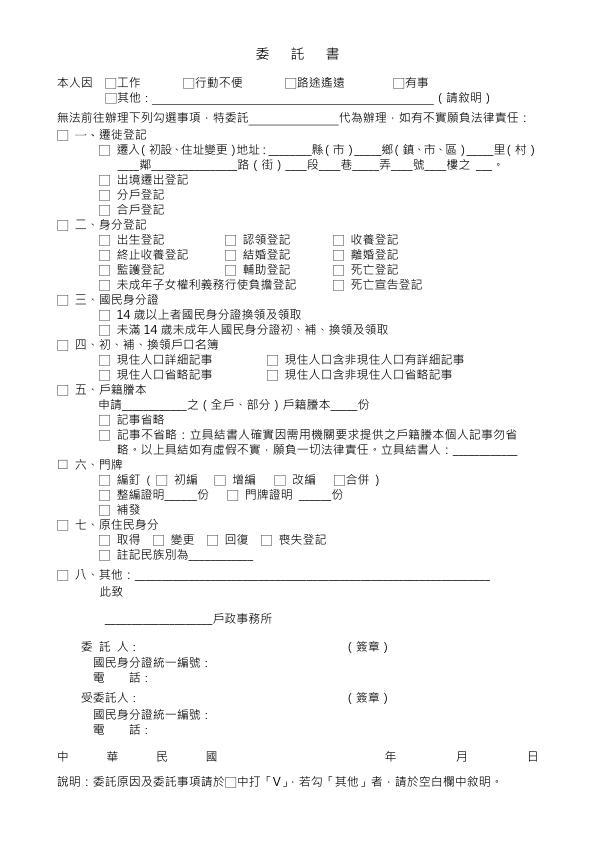check_box: (211, 470, 228, 488), (54, 566, 71, 584), (270, 471, 289, 487), (53, 292, 71, 308), (97, 428, 113, 445), (96, 502, 113, 518), (54, 516, 71, 532), (95, 277, 113, 292), (95, 352, 113, 367), (153, 472, 169, 488), (55, 337, 70, 354), (96, 533, 113, 548), (203, 533, 220, 548), (55, 129, 71, 144), (55, 218, 71, 233), (258, 533, 274, 548), (96, 172, 113, 186), (95, 369, 112, 383), (263, 369, 280, 383), (95, 413, 112, 427), (54, 458, 71, 472), (94, 549, 112, 562), (96, 323, 111, 338), (96, 472, 111, 487), (56, 381, 70, 397), (225, 488, 241, 502), (150, 533, 166, 547), (96, 249, 113, 262), (391, 76, 405, 91), (96, 307, 111, 321), (332, 473, 346, 488), (95, 203, 111, 216), (96, 264, 112, 277), (96, 489, 112, 502), (283, 76, 297, 90), (97, 233, 111, 247), (266, 352, 280, 366), (104, 74, 117, 89), (104, 92, 117, 107), (96, 144, 111, 157), (181, 77, 194, 91), (97, 189, 112, 201)
input: (134, 570, 493, 587), (153, 92, 434, 107), (103, 611, 212, 628), (253, 113, 335, 128), (154, 159, 234, 174), (124, 397, 187, 413), (454, 443, 516, 458), (188, 550, 254, 563), (268, 145, 309, 158), (165, 487, 196, 504), (297, 488, 329, 503), (467, 139, 490, 158), (354, 157, 378, 175), (331, 397, 354, 414), (320, 157, 341, 175), (427, 157, 445, 175), (354, 144, 377, 158), (118, 157, 138, 173), (393, 157, 411, 173), (285, 160, 304, 175), (476, 160, 491, 174)
text: (52, 769, 505, 790), (53, 749, 545, 766), (77, 638, 211, 686), (76, 690, 215, 736), (116, 442, 449, 457), (115, 428, 518, 440), (114, 323, 391, 337), (337, 109, 529, 126), (115, 306, 303, 322), (116, 277, 301, 291), (284, 351, 467, 365), (282, 368, 454, 382), (56, 111, 248, 123), (113, 142, 265, 155), (72, 337, 222, 350), (250, 44, 346, 64), (187, 398, 329, 411), (116, 352, 213, 366), (381, 139, 465, 155), (74, 292, 161, 306), (115, 368, 215, 380), (348, 276, 425, 291), (73, 127, 149, 142), (73, 382, 154, 396), (278, 529, 331, 550), (74, 217, 150, 231), (74, 518, 160, 530), (436, 89, 493, 107), (116, 548, 187, 562), (115, 248, 191, 261), (117, 173, 190, 186), (212, 610, 274, 625), (72, 567, 131, 582), (115, 261, 167, 277), (345, 688, 391, 706), (240, 262, 294, 277), (345, 638, 390, 656), (349, 247, 402, 262), (350, 262, 403, 277), (240, 246, 293, 261), (237, 156, 281, 174), (244, 487, 293, 503), (114, 188, 169, 202), (349, 232, 403, 246), (297, 73, 345, 88), (115, 486, 163, 501), (115, 413, 170, 426), (194, 75, 244, 89), (72, 456, 122, 470), (54, 73, 94, 90), (311, 140, 351, 157), (241, 232, 293, 245), (494, 141, 536, 157), (115, 204, 171, 216), (115, 232, 166, 245), (222, 530, 251, 546), (345, 471, 372, 488), (97, 583, 125, 599), (290, 472, 319, 487), (169, 532, 196, 548), (230, 472, 260, 486), (445, 156, 471, 172), (115, 472, 142, 486), (117, 92, 148, 104), (117, 75, 143, 89), (172, 472, 198, 486), (406, 75, 430, 90), (115, 503, 142, 516), (96, 398, 121, 412), (114, 533, 141, 545), (330, 488, 347, 503), (357, 397, 373, 411), (412, 155, 425, 172), (197, 487, 210, 503), (305, 157, 318, 172), (140, 157, 151, 171), (380, 157, 390, 171), (341, 157, 351, 171)
